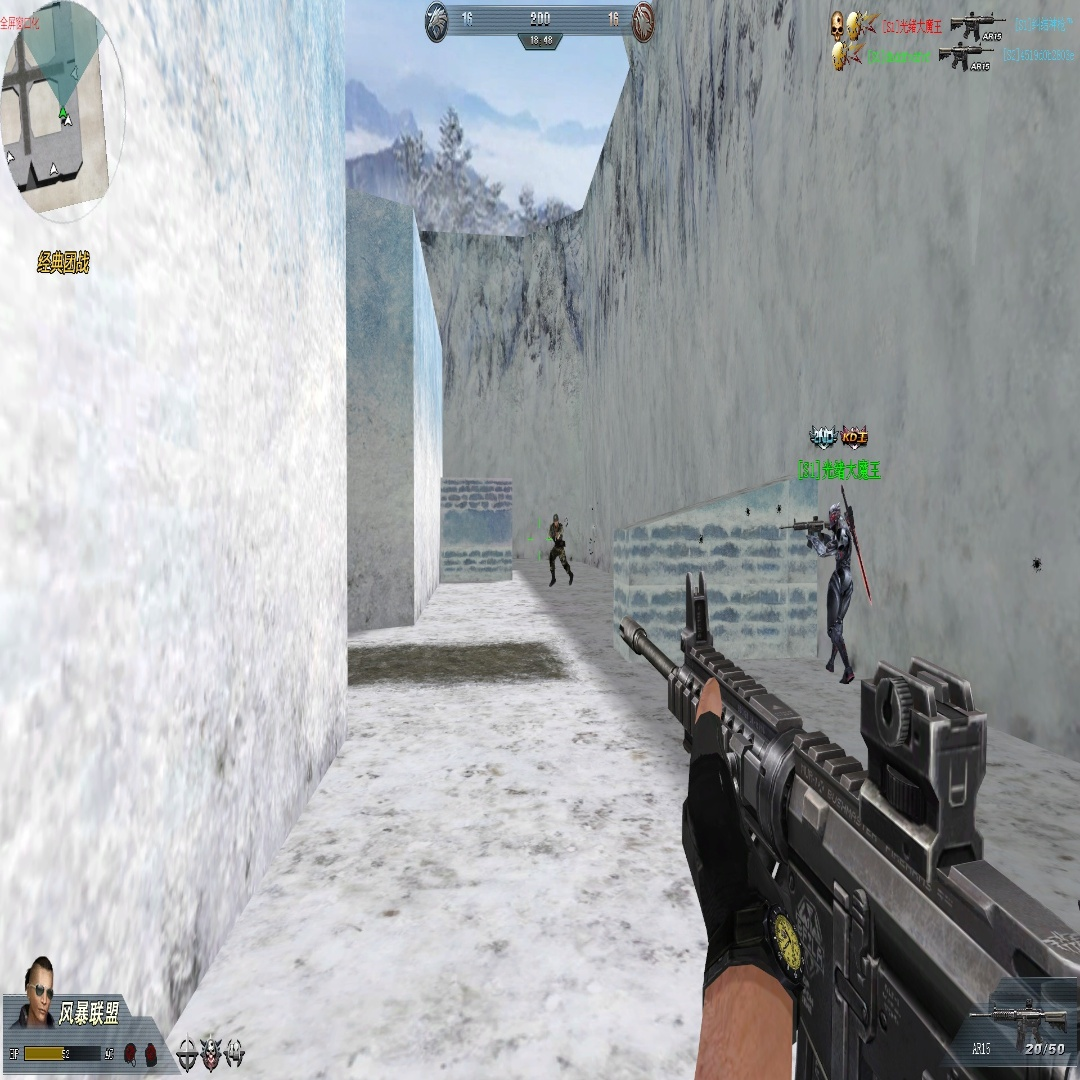ct: (547, 511, 575, 587)
t: (822, 498, 855, 683)
